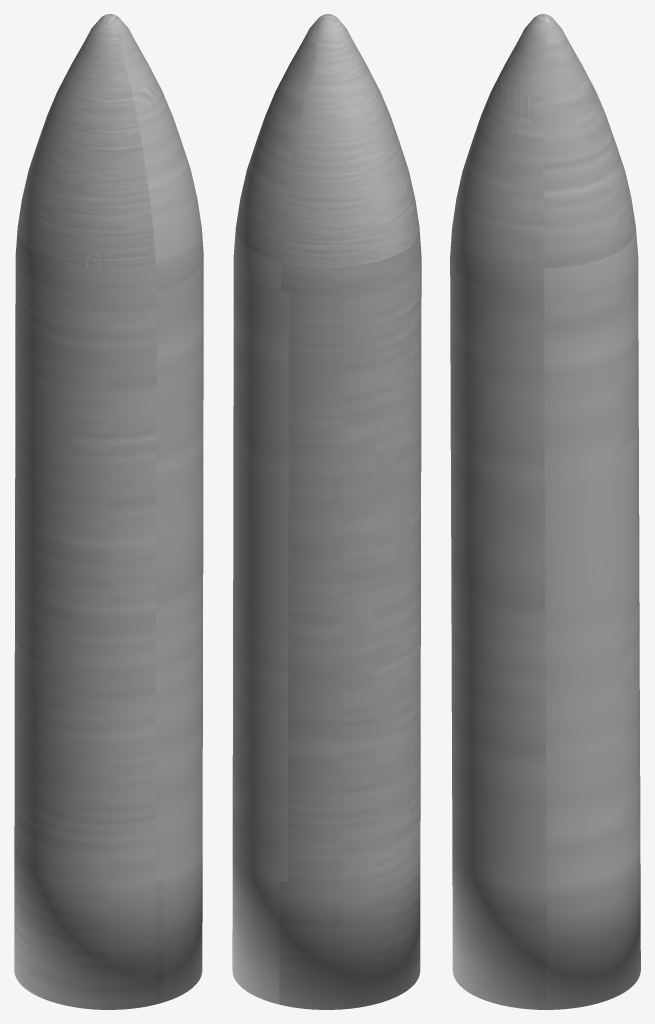
Rendered from starship.gltf.
3 renders of one model, left to right at view 1: azimuth 30°, elevation 25°; view 2: azimuth 150°, elevation 25°; view 3: azimuth 270°, elevation 25°, orthographic.
Visible parts, largest first — view 1: Starship Fusealage; view 2: Starship Fusealage; view 3: Starship Fusealage.
Boxes of the visible parts, <box> form: Starship Fusealage: <box>14,14,203,1009</box>; Starship Fusealage: <box>232,14,421,1009</box>; Starship Fusealage: <box>450,14,640,1009</box>.
Size of the model in its own units: 2.26 by 12.65 by 2.29.
Materials: 2 (2 with a texture image).
